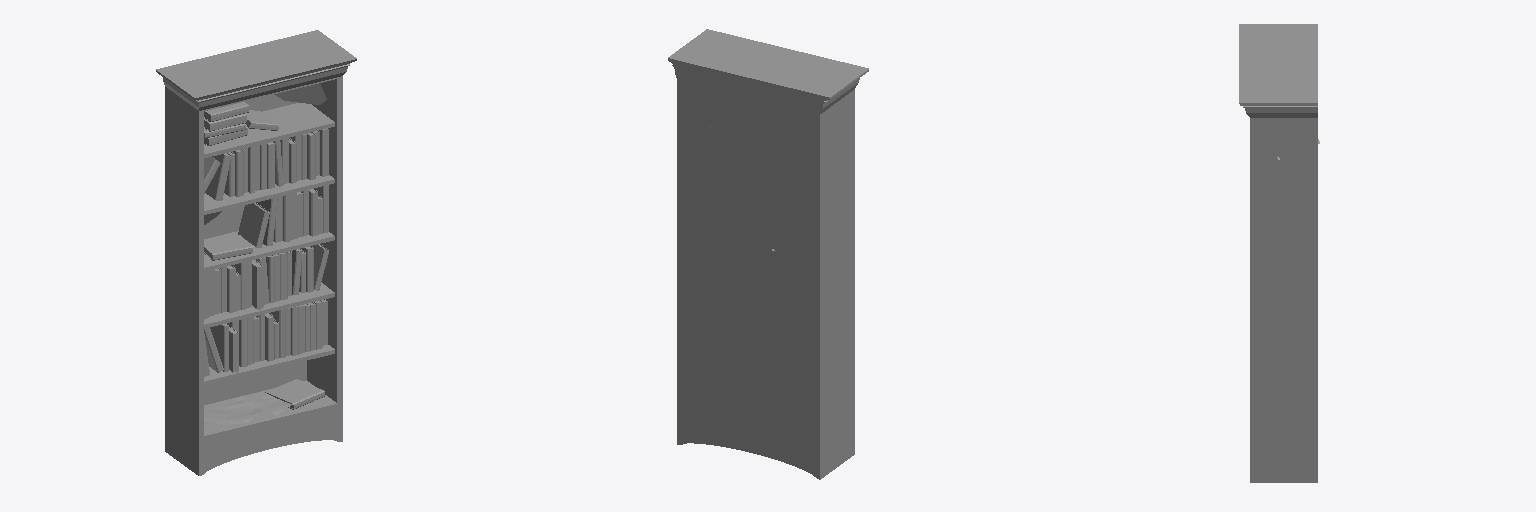
Rendered from Old_Dusty_Bookshelf.obj.
3 renders of one model, left to right at view 1: azimuth 30°, elevation 25°; view 2: azimuth 150°, elevation 25°; view 3: azimuth 270°, elevation 25°, orthographic.
Visible parts, largest first — view 1: Old_Dusty_Bookshelf_Old_Dusty_Bookshelf_Cube.000; view 2: Old_Dusty_Bookshelf_Old_Dusty_Bookshelf_Cube.000; view 3: Old_Dusty_Bookshelf_Old_Dusty_Bookshelf_Cube.000.
Boxes of the visible parts, x1,y1,x2,y2 form: Old_Dusty_Bookshelf_Old_Dusty_Bookshelf_Cube.000: [156, 30, 356, 475]; Old_Dusty_Bookshelf_Old_Dusty_Bookshelf_Cube.000: [668, 29, 868, 479]; Old_Dusty_Bookshelf_Old_Dusty_Bookshelf_Cube.000: [1239, 24, 1319, 482].
Size of the model in its own units: 92 by 208 by 40.